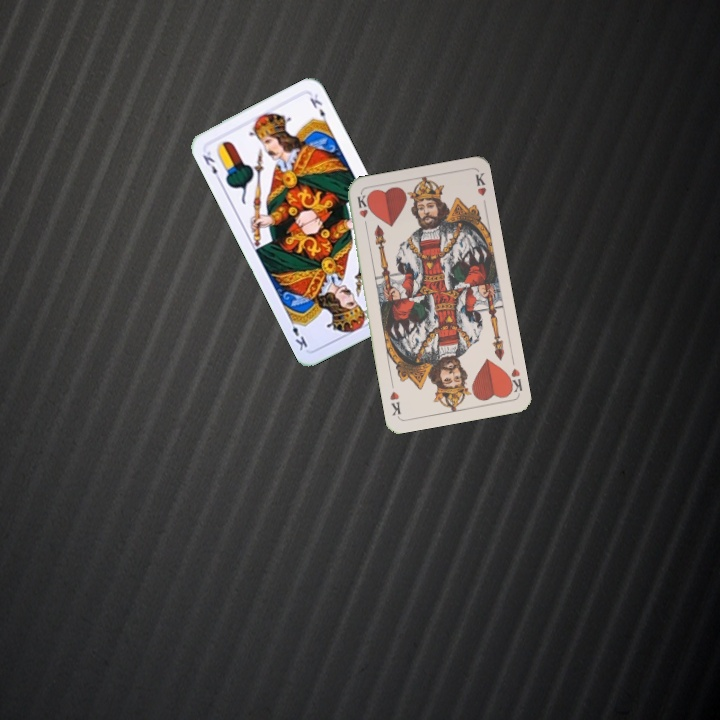EK: (198, 148, 223, 184)
HK: (502, 365, 525, 397), (353, 191, 370, 232)
